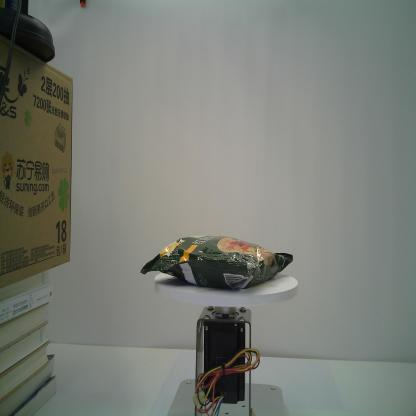Instant Noodles: (138, 232, 295, 294)
